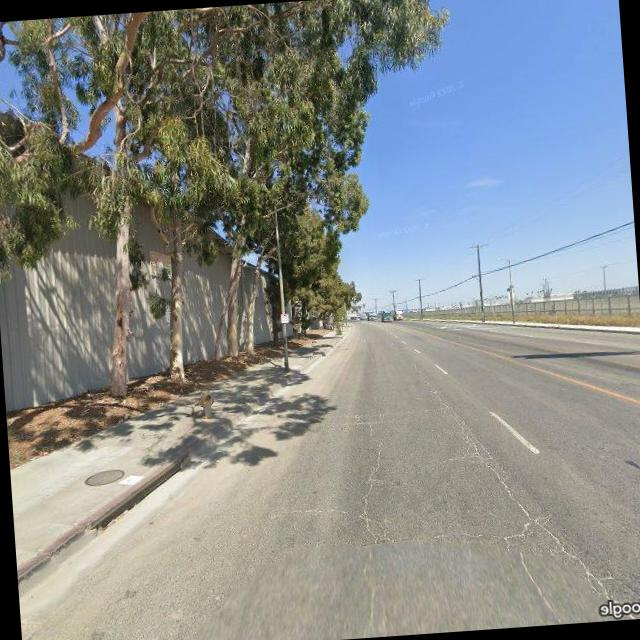pothole: (468, 424, 628, 610), (349, 426, 396, 542)
